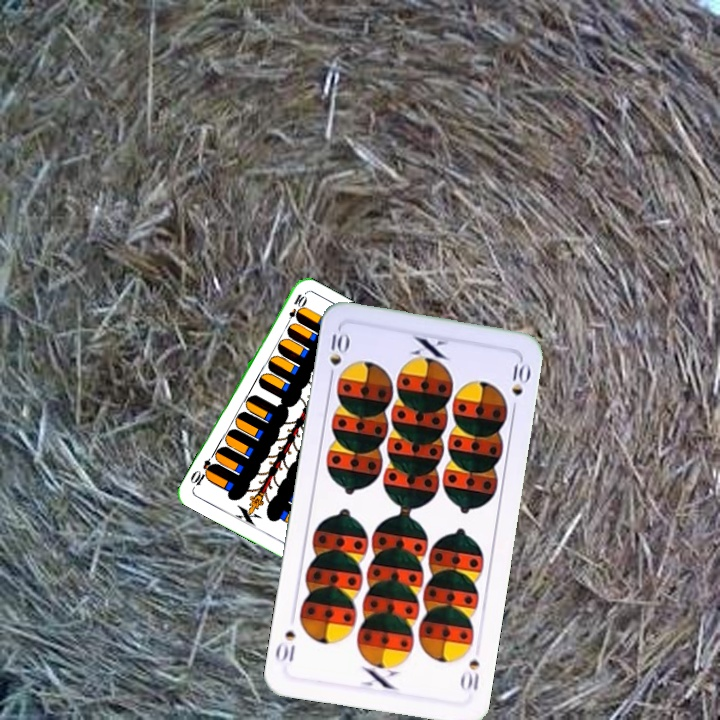E10: (282, 290, 308, 329)
S10: (325, 325, 350, 384), (456, 655, 482, 694)
